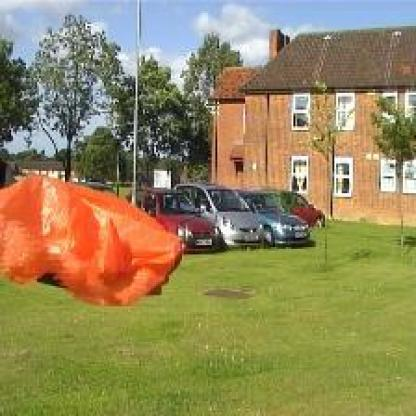other: (0, 154, 188, 316)
